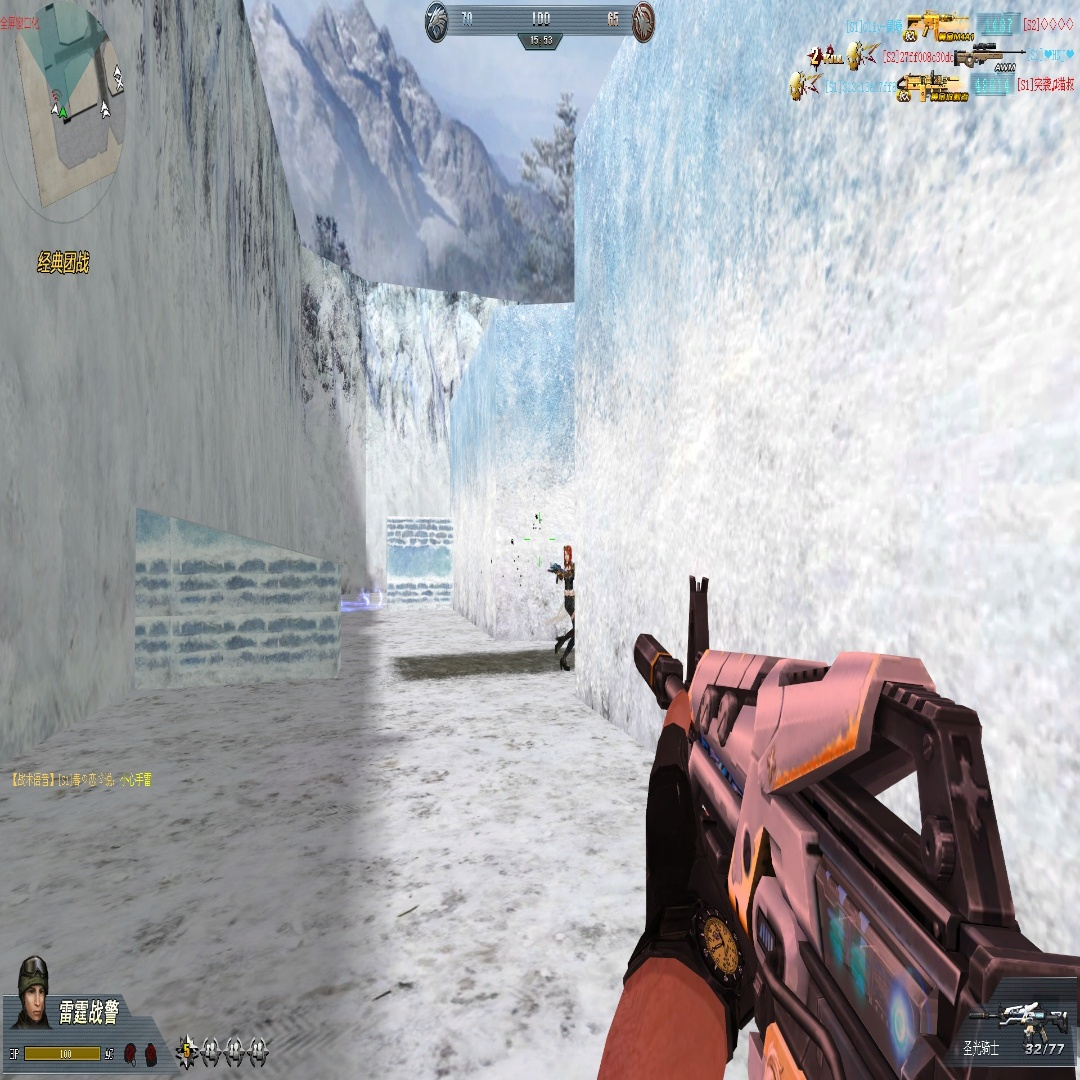t: (548, 542, 576, 670)
